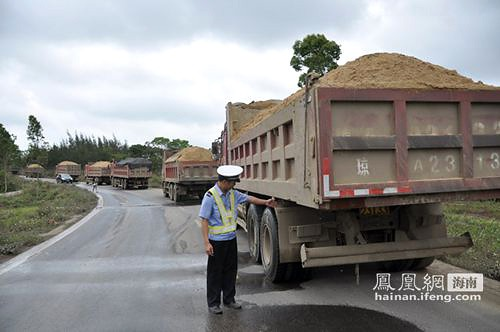chaozhai: (215, 50, 498, 303), (154, 141, 214, 207), (116, 156, 151, 192), (85, 155, 114, 190), (54, 157, 81, 184)
